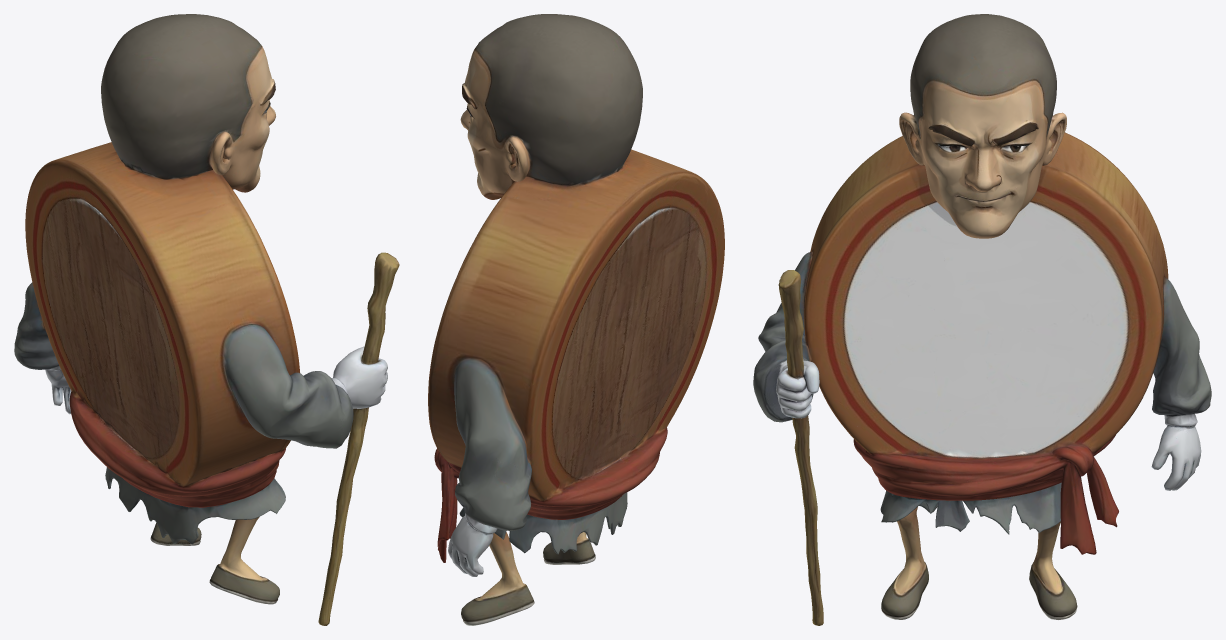
Rendered from p_zhu.glb.
3 views of the same model, side by side, from view 1: azimuth 30°, elevation 25°; view 2: azimuth 150°, elevation 25°; view 3: azimuth 270°, elevation 25° (orthographic). The views are drawn at different scales.
Visible parts, largest first — view 1: tripo_node_6ca4e5c5-2abb-452a-afb8-f0f7dc39a052; view 2: tripo_node_6ca4e5c5-2abb-452a-afb8-f0f7dc39a052; view 3: tripo_node_6ca4e5c5-2abb-452a-afb8-f0f7dc39a052.
Part boxes in pixels (box(x1,y1,x2,y2)): tripo_node_6ca4e5c5-2abb-452a-afb8-f0f7dc39a052: box(14, 14, 399, 625); tripo_node_6ca4e5c5-2abb-452a-afb8-f0f7dc39a052: box(428, 14, 724, 625); tripo_node_6ca4e5c5-2abb-452a-afb8-f0f7dc39a052: box(753, 14, 1211, 625).
Size of the model in its own units: 0.3871 by 0.9798 by 0.7121.
1 material, 1 textured.
